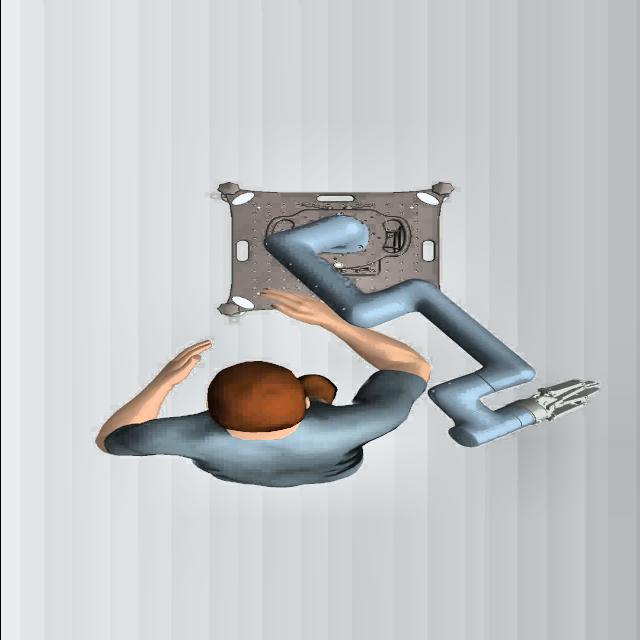human: (94, 288, 432, 488)
robot: (240, 208, 610, 452)
